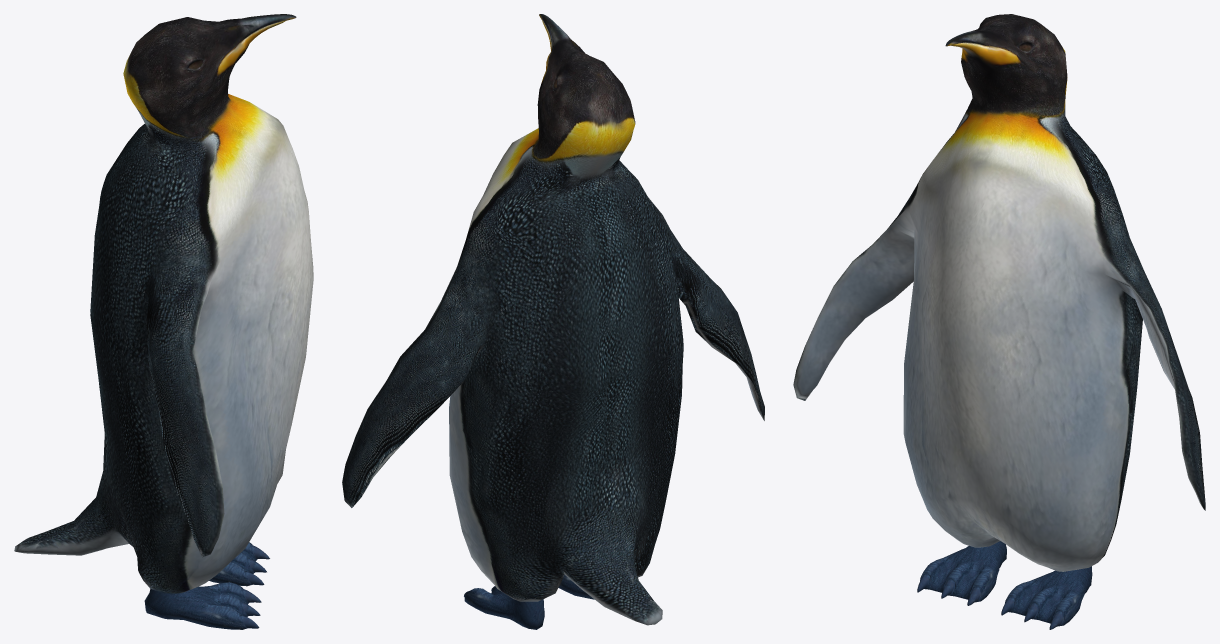
The picture shows the model from 3 angles, left to right: view 1: azimuth 30°, elevation 25°; view 2: azimuth 150°, elevation 25°; view 3: azimuth 270°, elevation 25°; orthographic projection. The views are drawn at different scales.
Parts seen in each view (by area): view 1: penguin.003_penguin.006; view 2: penguin.003_penguin.006; view 3: penguin.003_penguin.006.
Part boxes in pixels (x1=…): penguin.003_penguin.006: x1=14, y1=14, x2=313, y2=629; penguin.003_penguin.006: x1=342, y1=14, x2=764, y2=629; penguin.003_penguin.006: x1=793, y1=14, x2=1205, y2=629.
Bounding box in the file's own units: 12.35 × 24.4 × 15.84.
